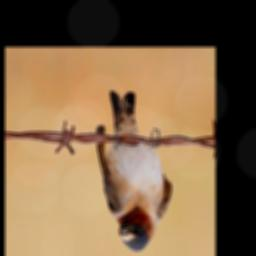Swallow: (95, 90, 172, 254)
